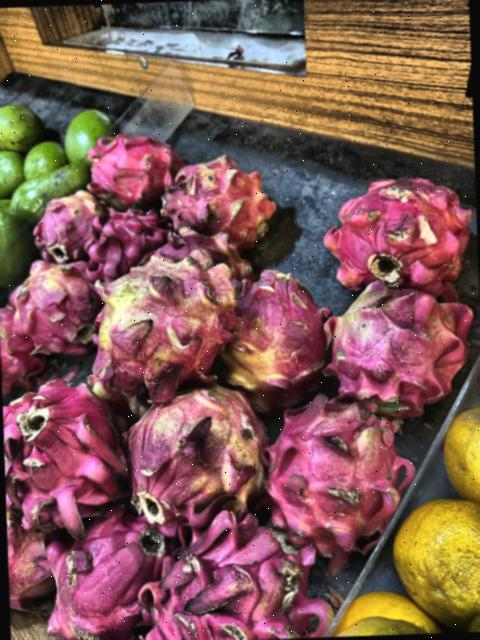buah-naga-belum-matang: (86, 257, 242, 392), (119, 381, 268, 512), (228, 267, 330, 398), (162, 162, 276, 244), (6, 260, 98, 352), (36, 186, 103, 256), (8, 520, 56, 612)
buah-naga-matang: (258, 385, 422, 560), (155, 517, 340, 640), (1, 367, 134, 535), (317, 158, 475, 291), (324, 282, 476, 417), (46, 509, 173, 640), (82, 126, 190, 199), (92, 202, 170, 281), (0, 306, 36, 396)
